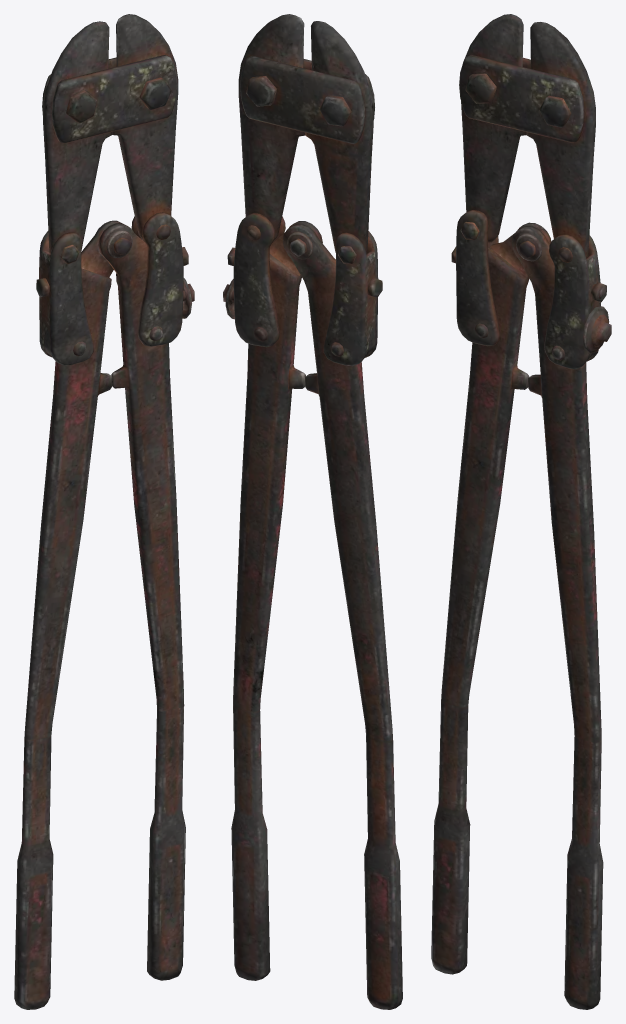
Rendered from bolt_cutters_01.glb.
3 views of the same model, side by side, from view 1: azimuth 30°, elevation 25°; view 2: azimuth 150°, elevation 25°; view 3: azimuth 330°, elevation 25° (orthographic).
Parts seen in each view (by area): view 1: bolt_cutters_01; view 2: bolt_cutters_01; view 3: bolt_cutters_01.
Part boxes in pixels (bbox=[...]): bolt_cutters_01: bbox=[14, 14, 194, 1009]; bolt_cutters_01: bbox=[223, 14, 402, 1009]; bolt_cutters_01: bbox=[431, 14, 611, 1009].
Size of the model in its own units: 0.1511 by 0.8026 by 0.0361.
1 material, 1 textured.
